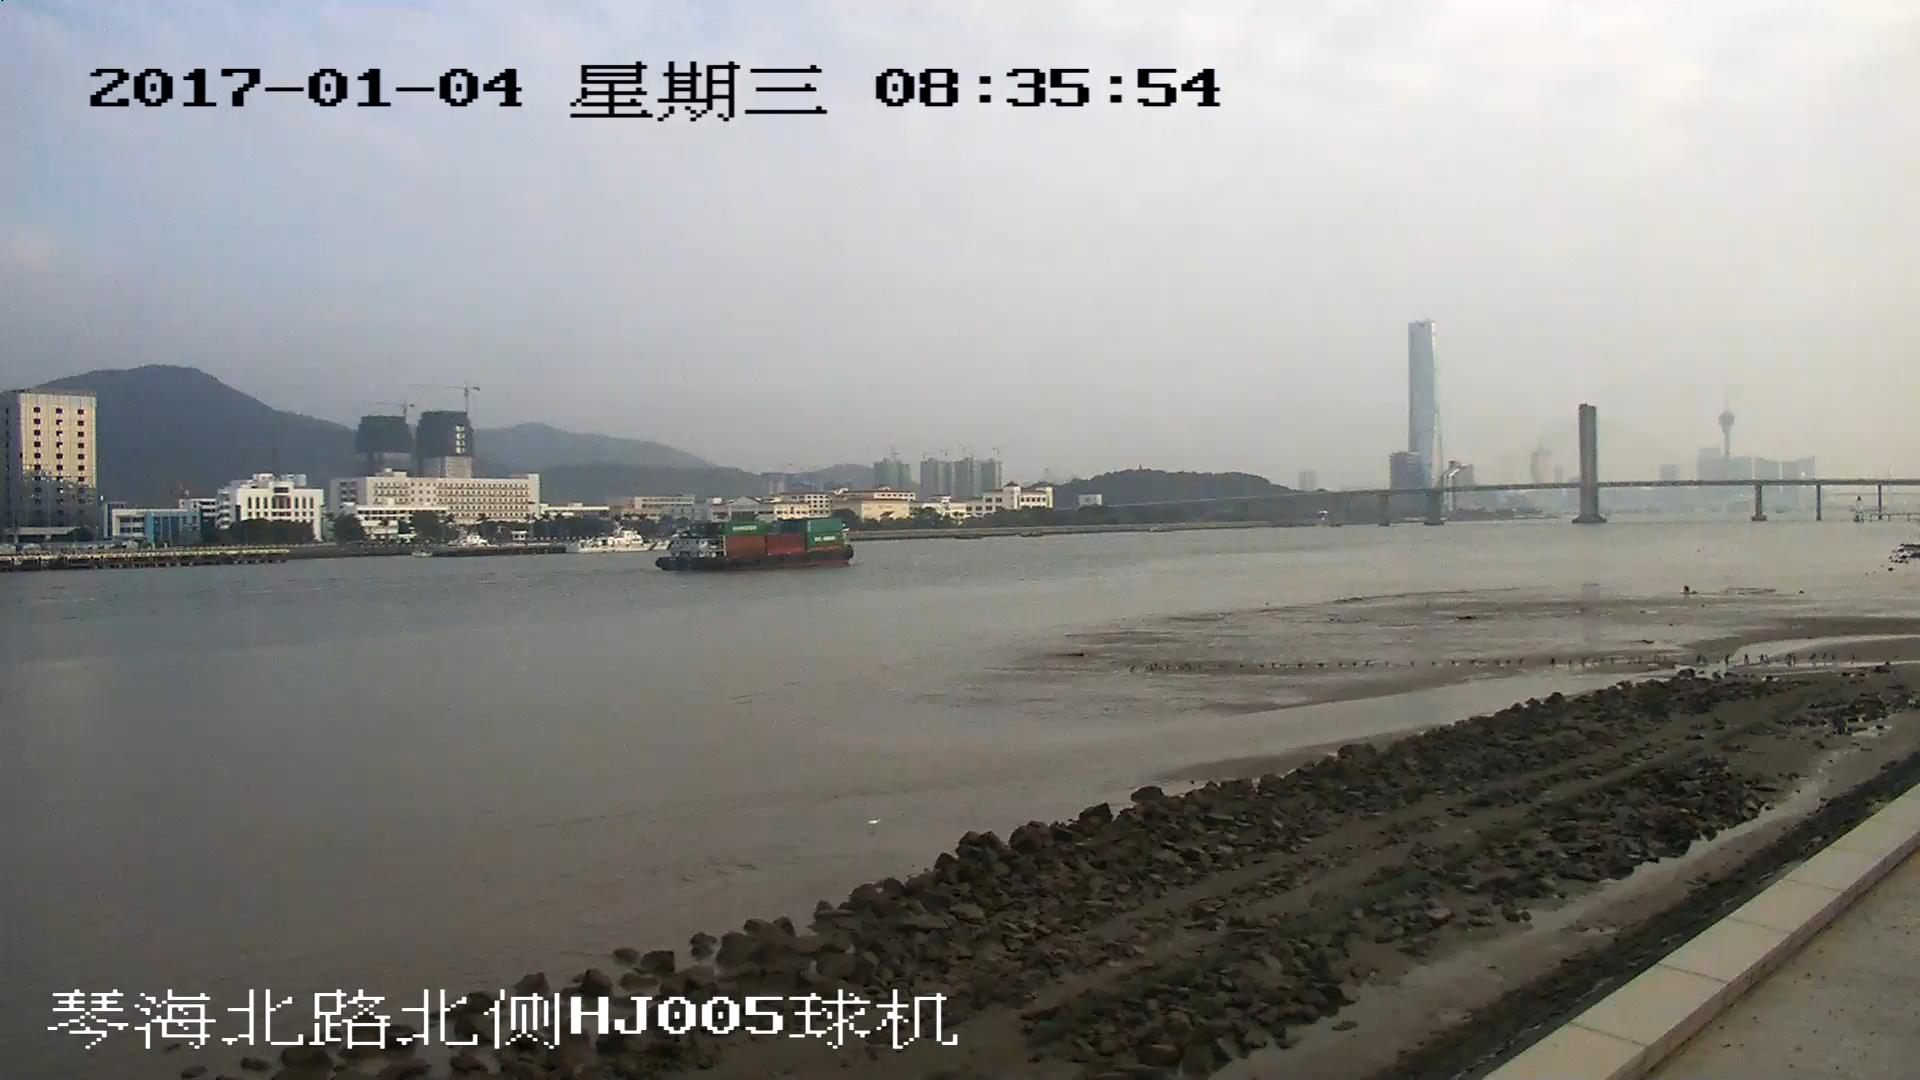container ship: (658, 521, 858, 573)
